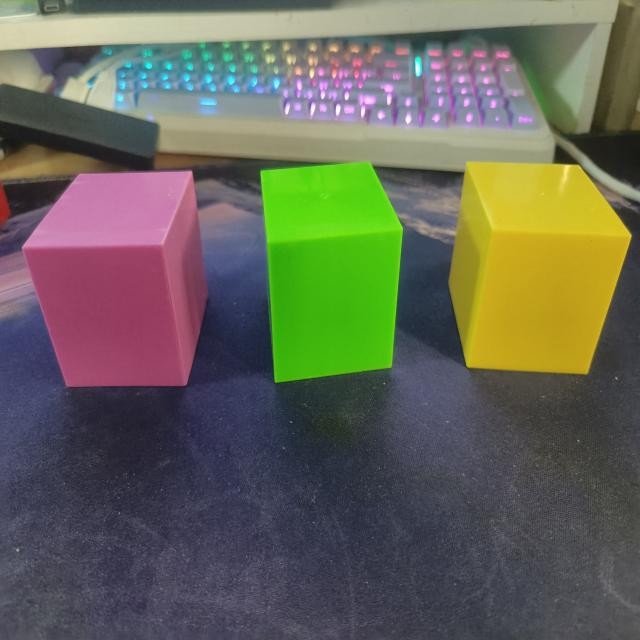green: (257, 162, 404, 385)
pink: (20, 168, 209, 391)
yellow: (448, 161, 631, 378)
